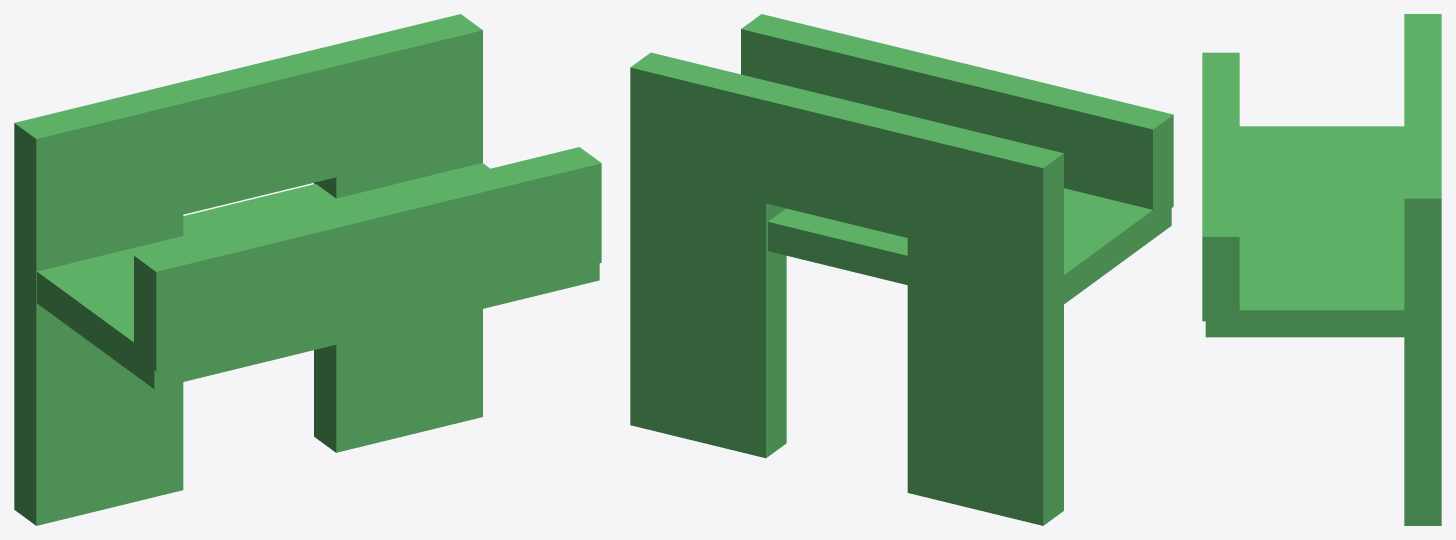
Rendered from balcony_combat_collision.glb.
3 views of the same model, side by side, from view 1: azimuth 30°, elevation 25°; view 2: azimuth 150°, elevation 25°; view 3: azimuth 270°, elevation 25° (orthographic). The views are drawn at different scales.
Parts seen in each view (by area): view 1: balcony_combat-col-front, balcony_combat-col-backLeft, balcony_combat-col-backRight, balcony_combat-col-deck, balcony_combat-col-backLintel; view 2: balcony_combat-col-backLeft, balcony_combat-col-backRight, balcony_combat-col-front, balcony_combat-col-backLintel, balcony_combat-col-deck; view 3: balcony_combat-col-deck, balcony_combat-col-backRight, balcony_combat-col-front, balcony_combat-col-backLintel, balcony_combat-col-backLeft.
Part boxes in pixels (x1=…): balcony_combat-col-front: x1=134, y1=147, x2=601, y2=371; balcony_combat-col-backLeft: x1=14, y1=87, x2=183, y2=525; balcony_combat-col-backRight: x1=314, y1=14, x2=482, y2=452; balcony_combat-col-deck: x1=37, y1=163, x2=599, y2=388; balcony_combat-col-backLintel: x1=161, y1=50, x2=336, y2=214; balcony_combat-col-backLeft: x1=907, y1=120, x2=1063, y2=525; balcony_combat-col-backRight: x1=630, y1=52, x2=786, y2=458; balcony_combat-col-front: x1=741, y1=14, x2=1173, y2=221; balcony_combat-col-backLintel: x1=765, y1=85, x2=927, y2=237; balcony_combat-col-deck: x1=768, y1=188, x2=1171, y2=304; balcony_combat-col-deck: x1=1205, y1=126, x2=1404, y2=337; balcony_combat-col-backRight: x1=1404, y1=138, x2=1441, y2=525; balcony_combat-col-front: x1=1202, y1=52, x2=1239, y2=321; balcony_combat-col-backLintel: x1=1404, y1=74, x2=1441, y2=137; balcony_combat-col-backLeft: x1=1404, y1=14, x2=1441, y2=74.
Bounding box in the file's own units: 4.41 × 3.65 × 2.42.
